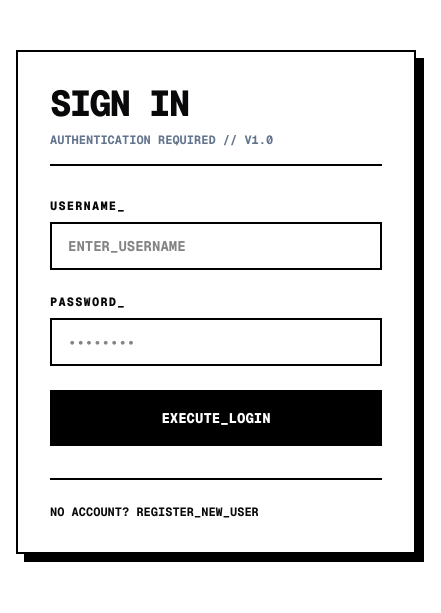
Scenario: LoginClient › shows error message on login failure
Step 1. Type "testuser" into the field labelled "Username_" → (216, 246), box [50,222,382,270]
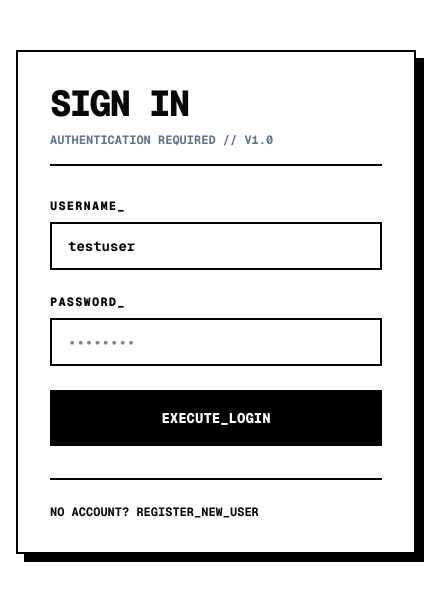
Step 2. Type "wrongpassword" into the password field labelled "Password_" → (216, 342), box [50,318,382,366]
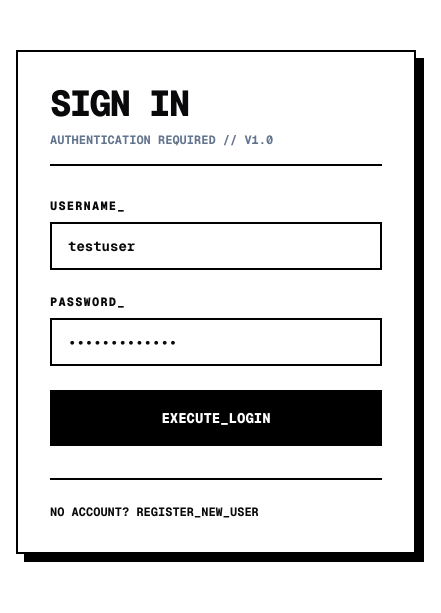
Step 3. Click the button "Execute_Login" → click(216, 418), box [50,390,382,446]
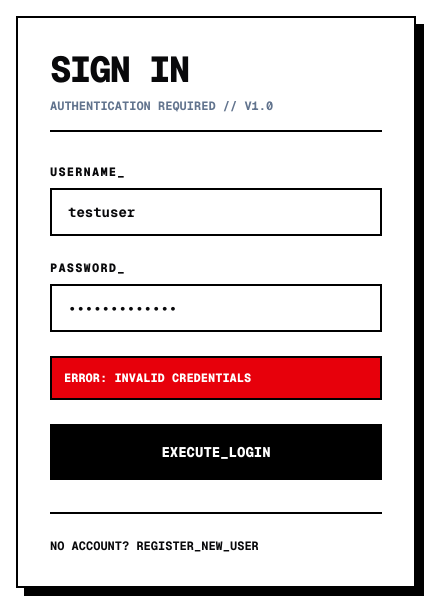
Now the text "ERROR: INVALID CREDENTIALS" is shown, box [50,356,382,400]
